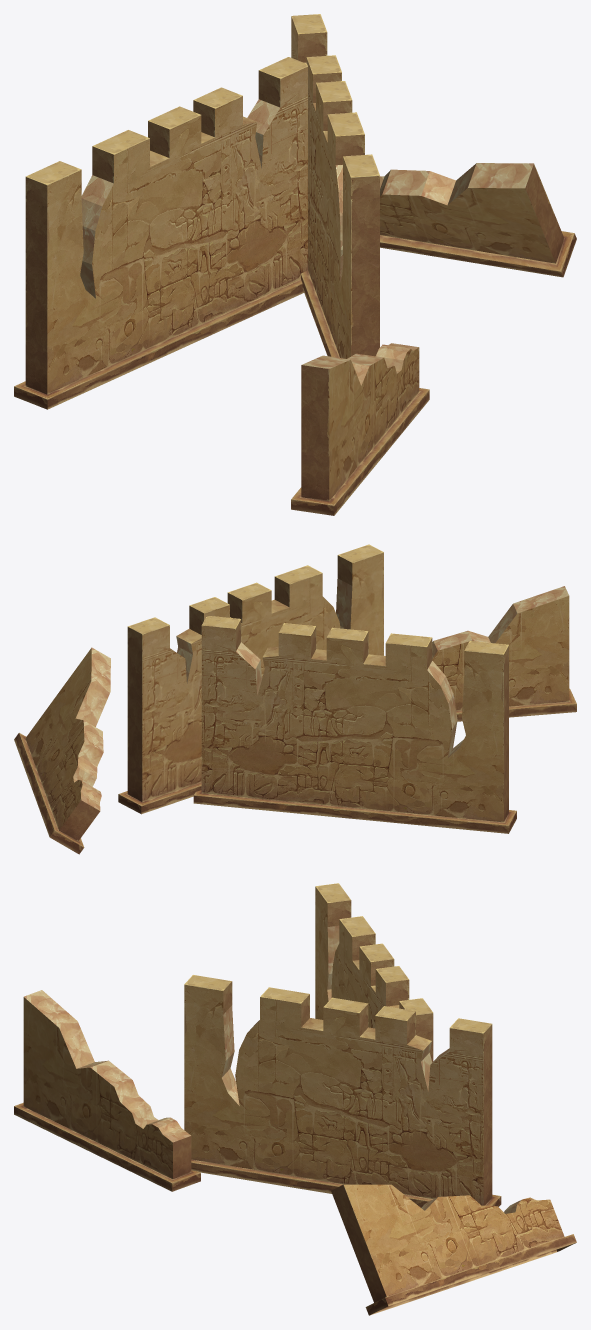
The model's file is Area_06_9.fbx.
3 views of the same model, one above another, from view 1: azimuth 30°, elevation 25°; view 2: azimuth 150°, elevation 25°; view 3: azimuth 270°, elevation 25° (orthographic). The views are drawn at different scales.
Parts seen in each view (by area): view 1: Area_06_9; view 2: Area_06_9; view 3: Area_06_9.
Part boxes in pixels (x1,y1,x2,y2): Area_06_9: (14,14,576,515); Area_06_9: (14,544,576,854); Area_06_9: (14,883,576,1315).
Size of the model in its own units: 1572 by 651 by 1565.
